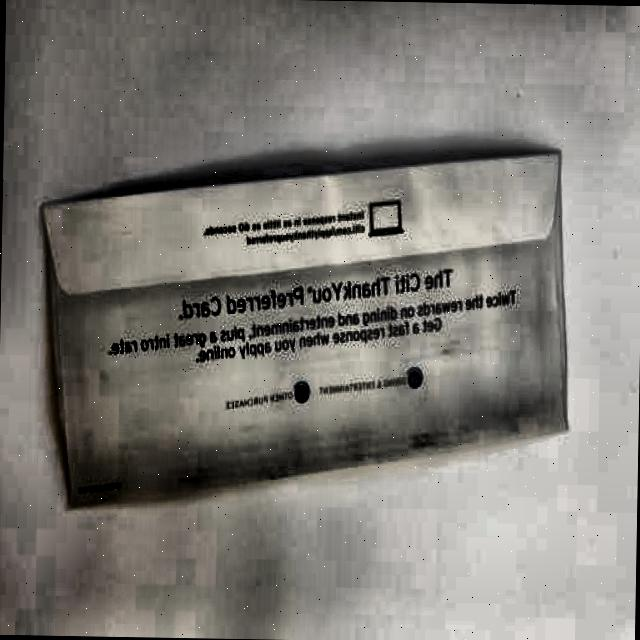paper: (50, 138, 570, 518)
